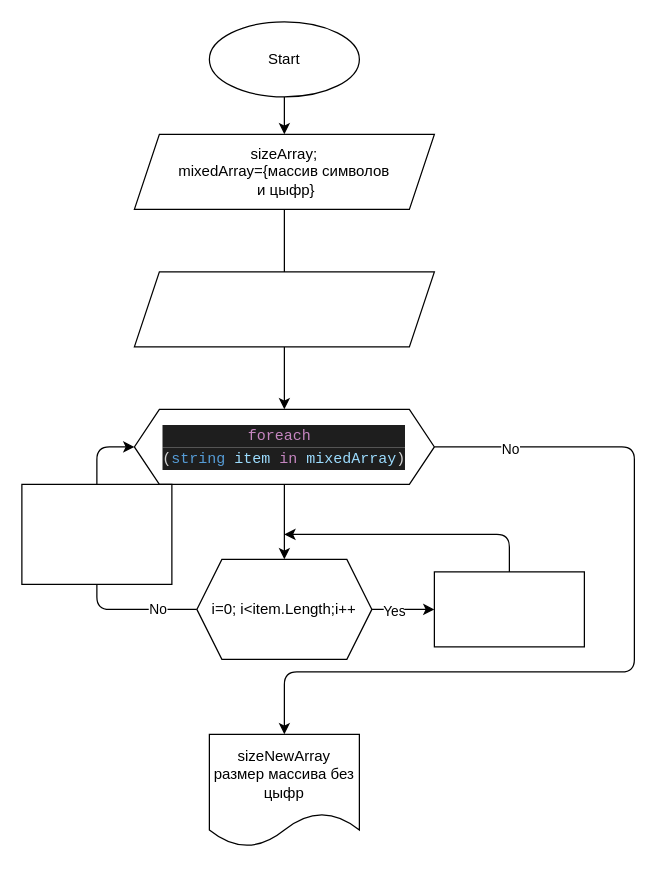
Image size: 666x869. Some labels were removed from this diagram. Each missing label, with the box of its shape:
finalArray [ j ]= newElement ; j ++; newElement = "" ;: (21, 483, 172, 584)
item [ i ]< 0 и > 9 -> newElement += item [ i ]: (433, 571, 584, 647)
string newElement = ""; string[] finalArray = mixedArray; int j=0;: (133, 271, 434, 347)
